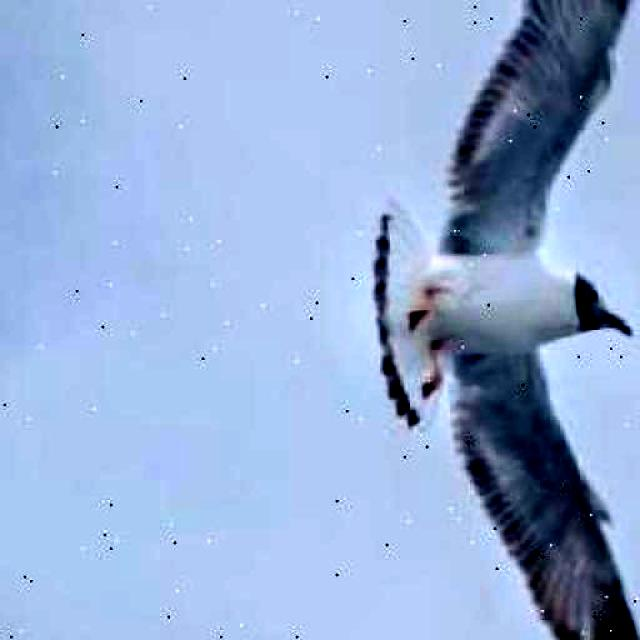airplane: (316, 0, 640, 640)
